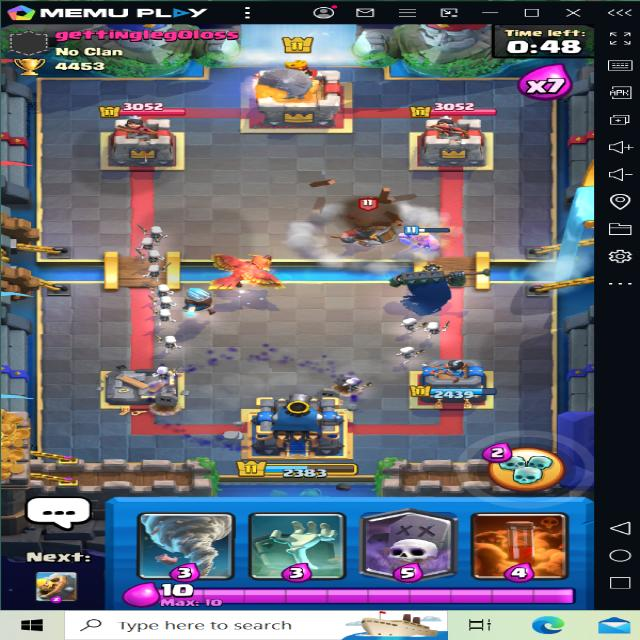rocket: (254, 64, 320, 106)
royal-recruits: (330, 200, 401, 246)
